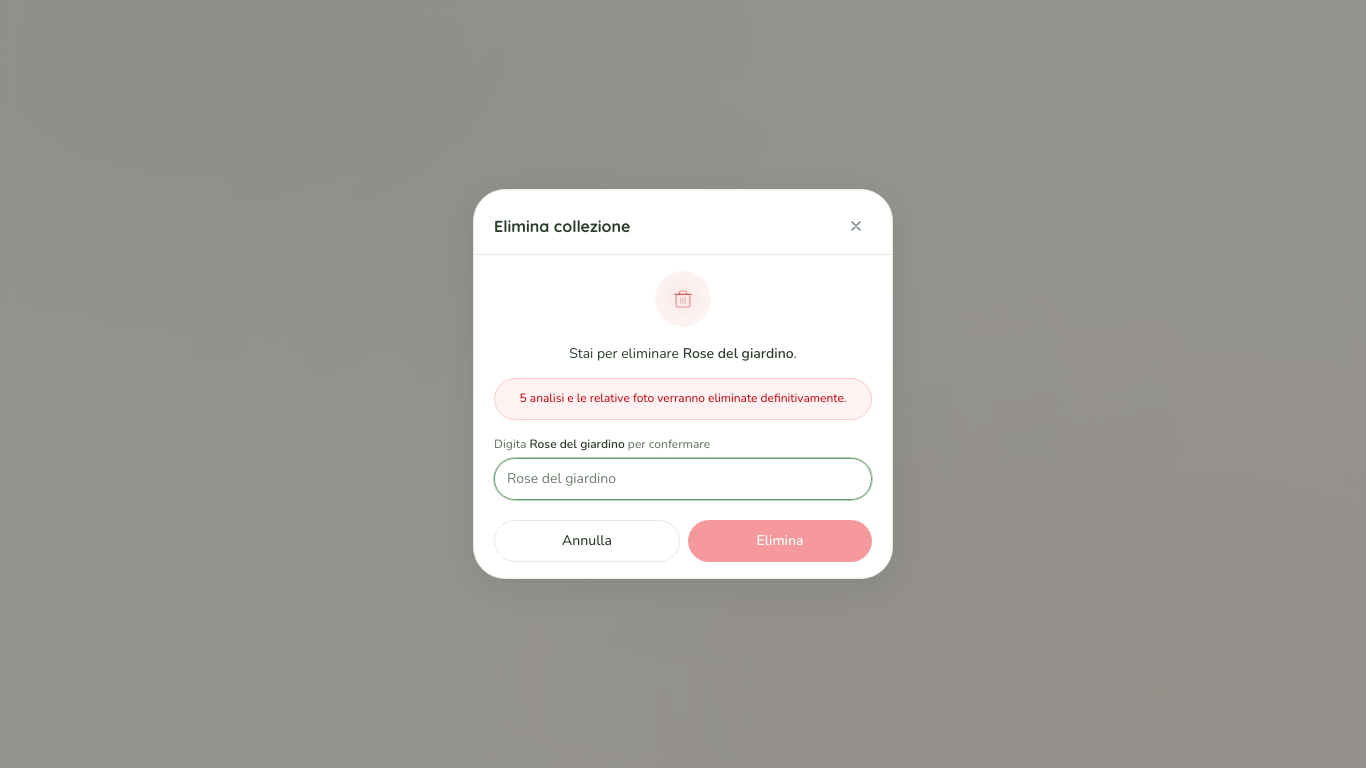
it: DialogoEliminaCollezione › con analisi presenti: abilita Elimina solo quando il nome digitato corrisponde
// Nome parziale: ancora disabilitato
Type "Rose del" into the field labelled "Digita Rose del giardino per confermare" at (683, 479), box [494, 458, 872, 500]
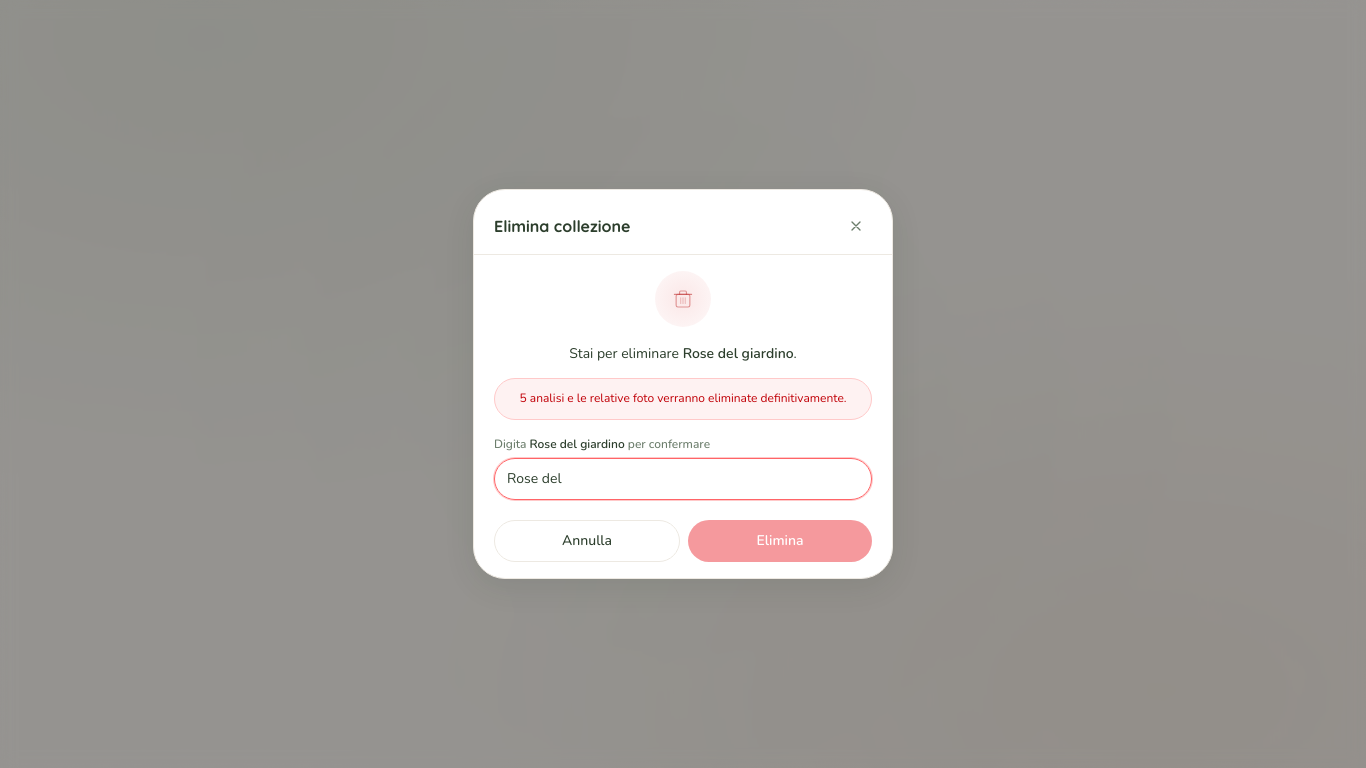
Expected: the button "Elimina" is disabled, [688, 520, 872, 562]
// Nome completo: abilitato
Replace the text in the field labelled "Digita Rose del giardino per confermare" with "Rose del giardino" at (683, 479), box [494, 458, 872, 500]
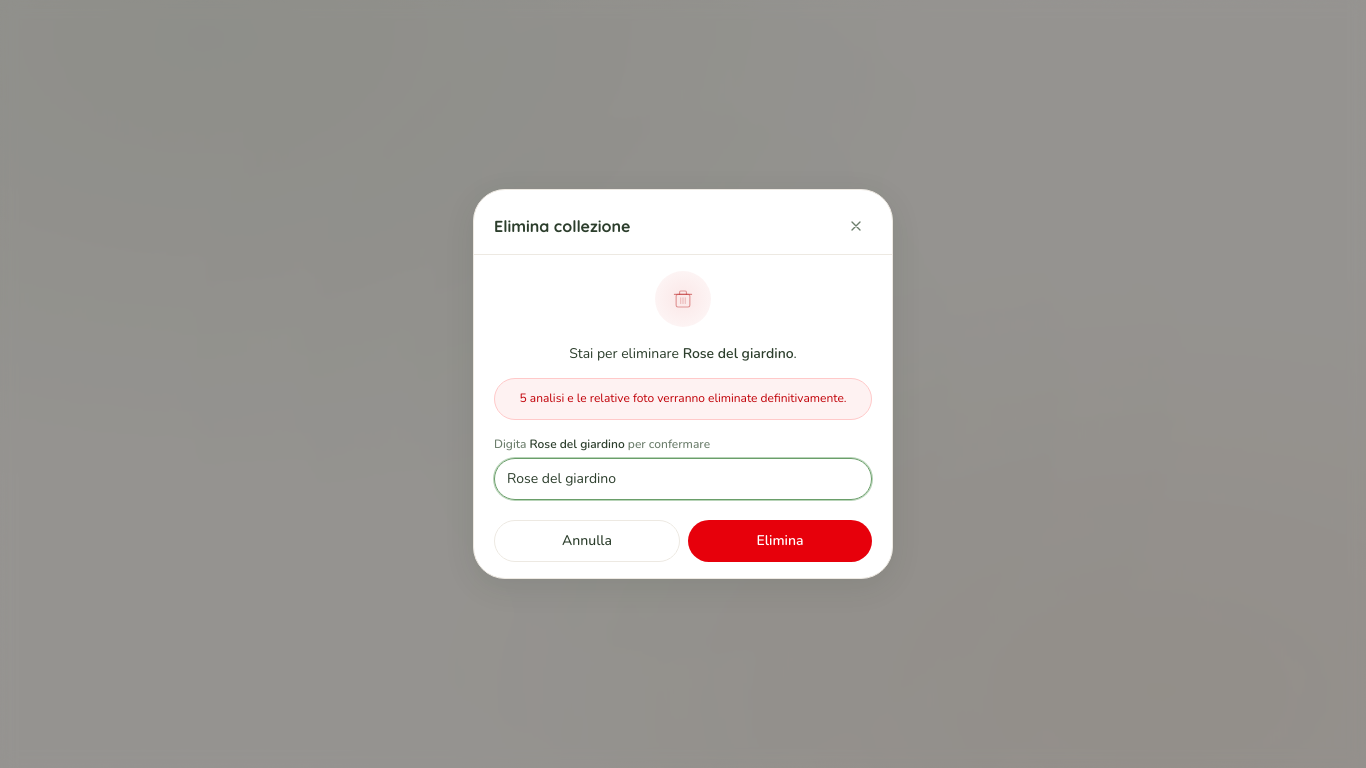
Expected: the button "Elimina" is enabled, [688, 520, 872, 562]
